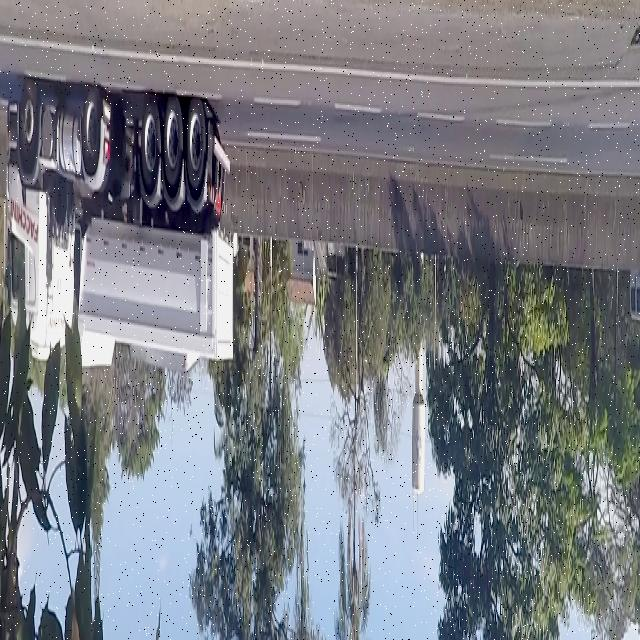-axle: (185, 82, 210, 202), (139, 80, 161, 192), (163, 82, 183, 192), (82, 84, 105, 178), (22, 64, 40, 174)
